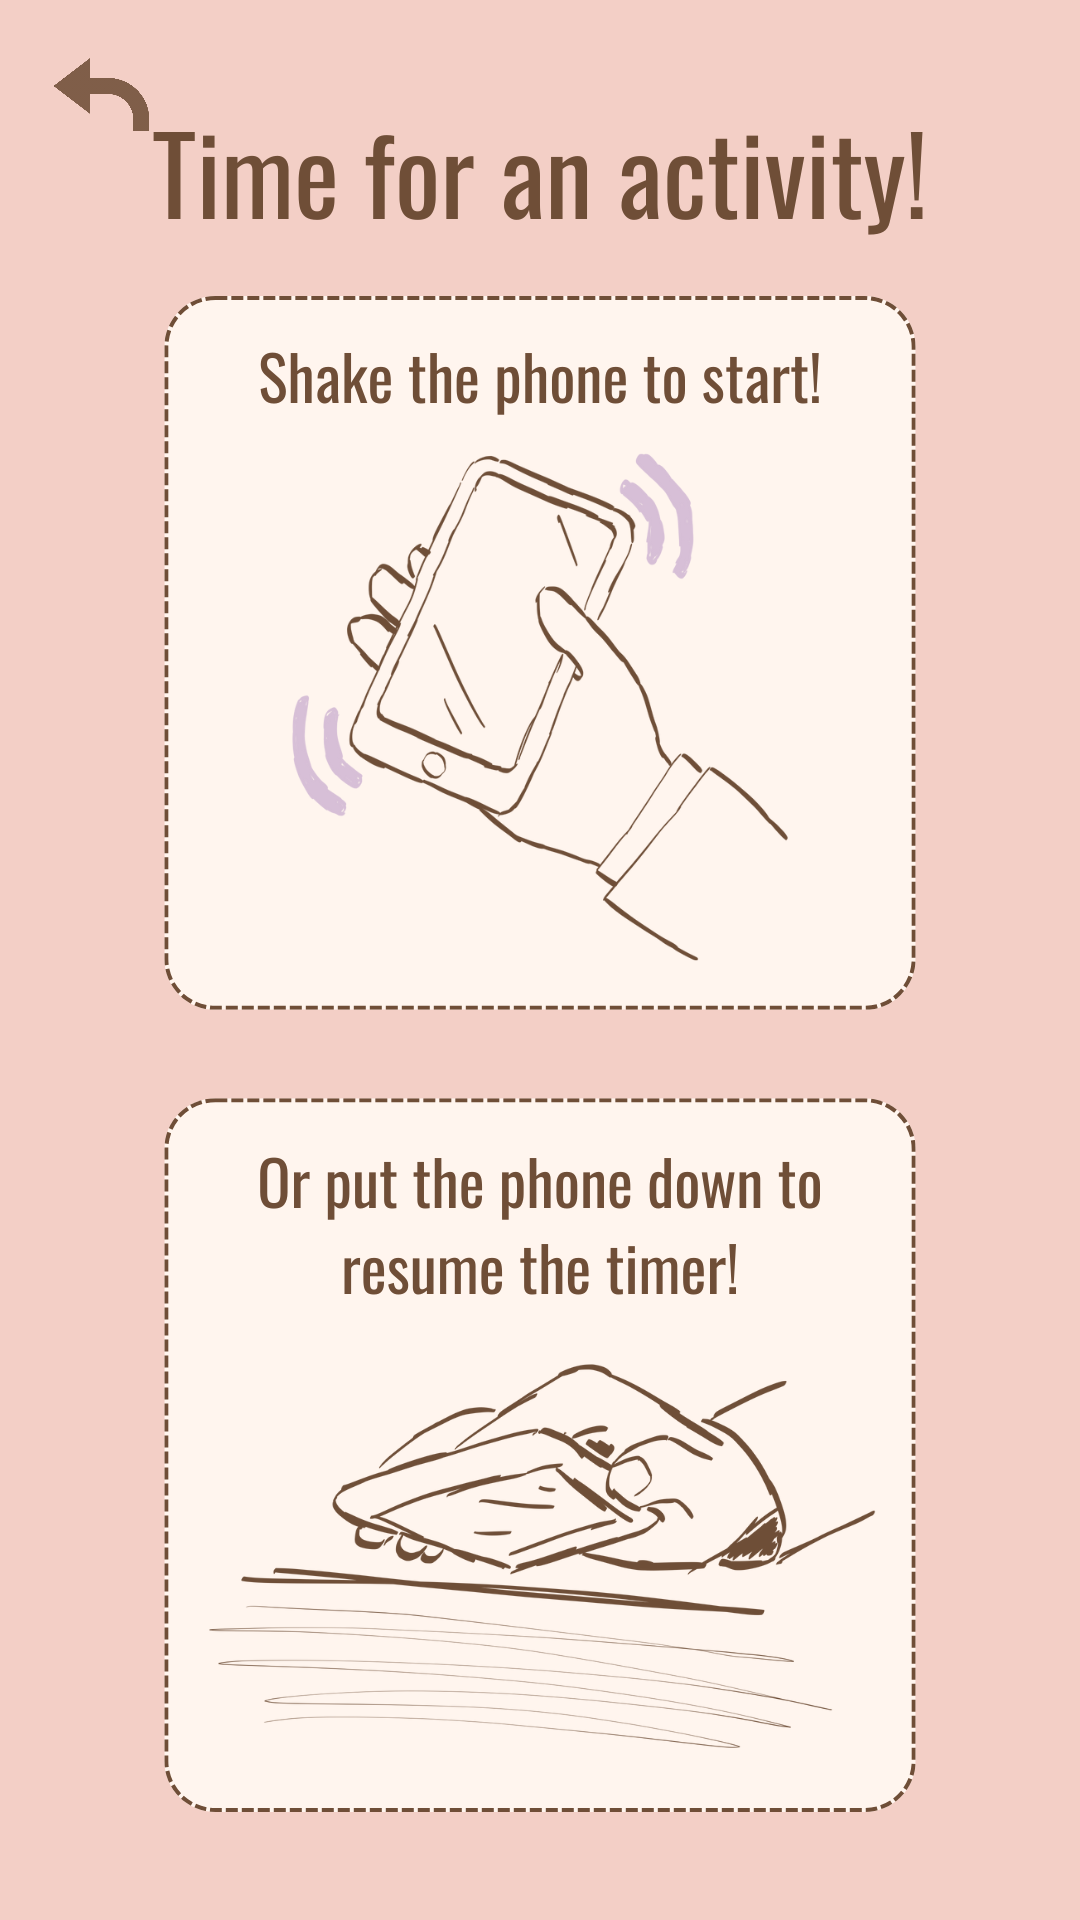

Icon bounding boxes for this 1080w x 1920h phone screenshot, format rect(x1, y1, x2, y2):
back arrow: rect(54, 58, 149, 131)
